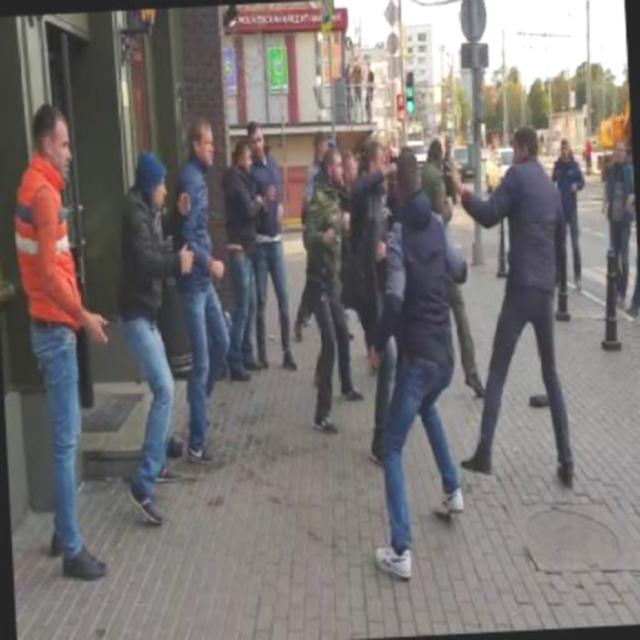non-fight: (8, 98, 114, 588), (116, 151, 181, 534), (167, 117, 236, 471), (215, 112, 296, 382), (594, 130, 640, 316)
